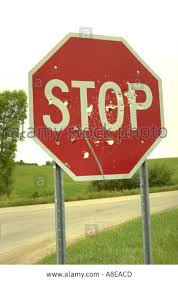stop_sign: (26, 31, 165, 181)
